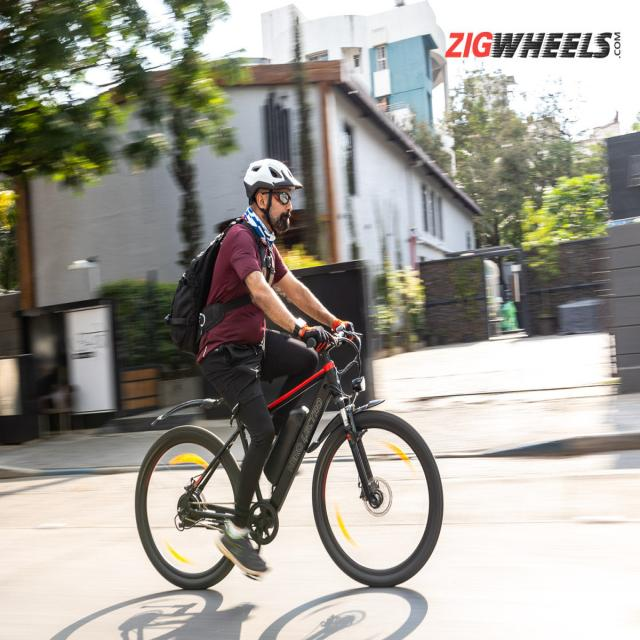bicycle: (135, 158, 442, 590)
